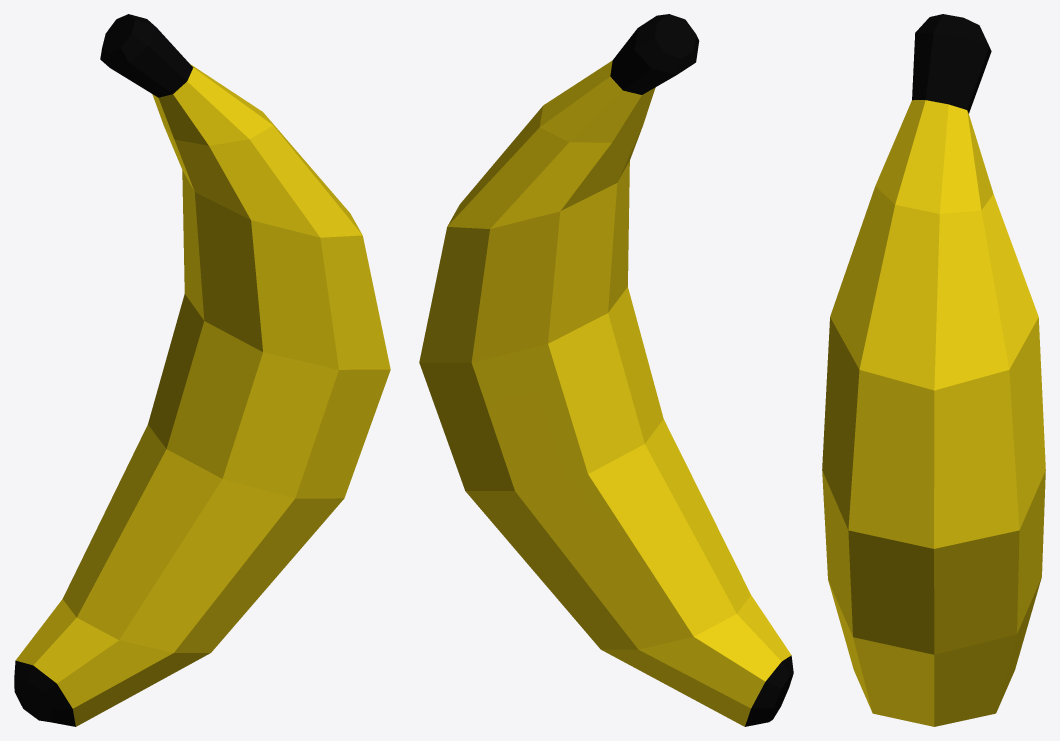
File: Banan.fbx
3 views of the same model, side by side, from view 1: azimuth 30°, elevation 25°; view 2: azimuth 150°, elevation 25°; view 3: azimuth 270°, elevation 25° (orthographic). The views are drawn at different scales.
Visible parts, largest first — view 1: banana_01; view 2: banana_01; view 3: banana_01.
Part boxes in pixels (x1,y1,x2,y2): banana_01: (14,14,390,726); banana_01: (419,14,793,726); banana_01: (822,14,1045,726).
Bounding box in the file's own units: 190 × 356 × 97.23.
